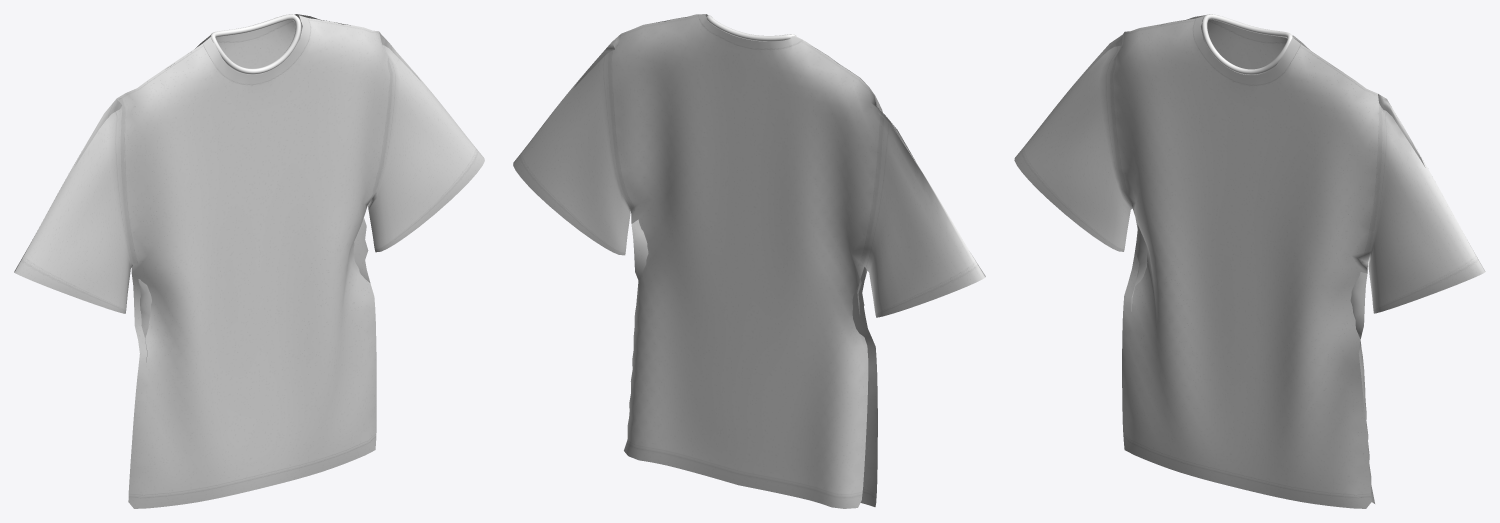
File: nizamlar-tee.glb
3 views of the same model, side by side, from view 1: azimuth 30°, elevation 25°; view 2: azimuth 150°, elevation 25°; view 3: azimuth 330°, elevation 25° (orthographic).
Visible parts, largest first — view 1: Nizamlar metric cotton tee — DiMaac drape adaptation; view 2: Nizamlar metric cotton tee — DiMaac drape adaptation; view 3: Nizamlar metric cotton tee — DiMaac drape adaptation.
Part boxes in pixels (x1,y1,x2,y2): Nizamlar metric cotton tee — DiMaac drape adaptation: [14, 14, 484, 508]; Nizamlar metric cotton tee — DiMaac drape adaptation: [513, 14, 985, 508]; Nizamlar metric cotton tee — DiMaac drape adaptation: [1014, 14, 1485, 508].
Size of the model in its own units: 0.8742 by 0.8157 by 0.0742.
Materials: 5 (4 with a texture image).
